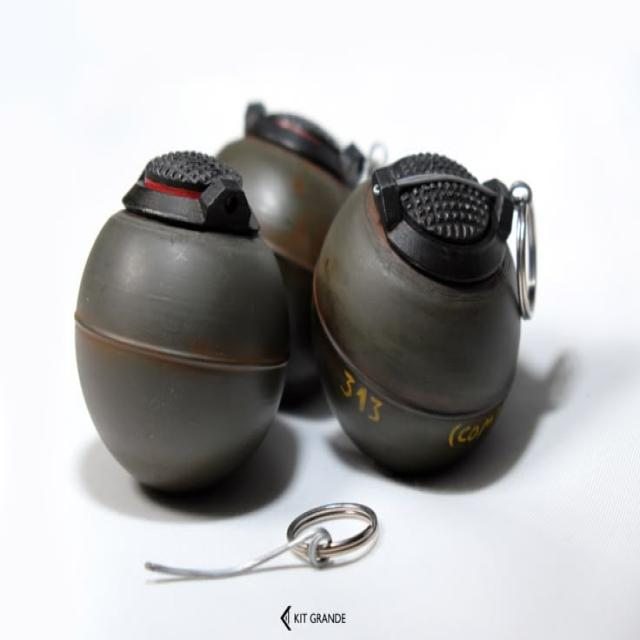bomb: (100, 105, 527, 456)
